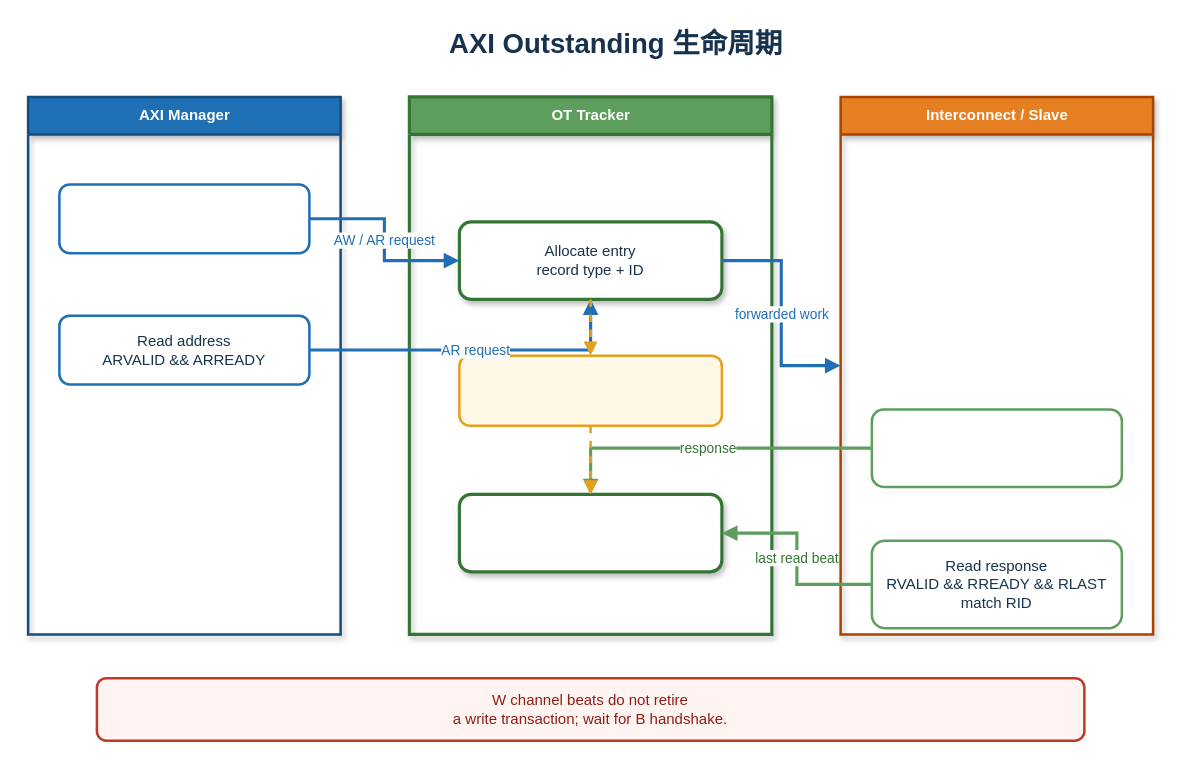
The diagram is 1183 pixels wide and 763 high, and some of its shapes have lost their labels. The shapes that lost their labels are listed below. From the top down, each one's centre as x and y in pixels, then its label:
At (184,218): "Write address AWVALID && AWREADY".
At (590,390): "Outstanding entry remains active".
At (996,448): "Write response BVALID && BREADY match BID".
At (591,534): "Retire entry decrement ot_count".
